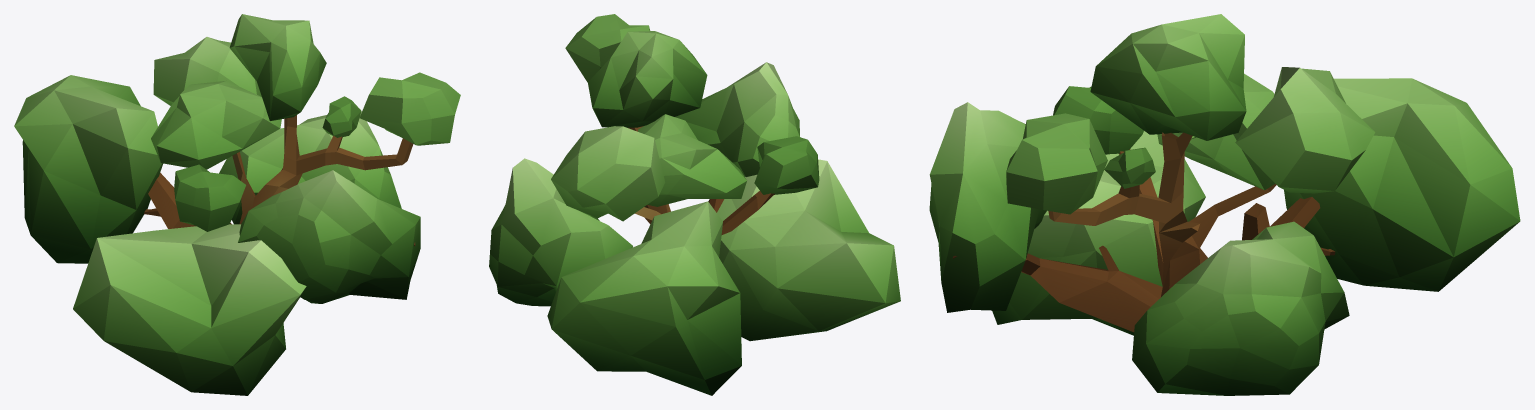
File: bush_1_export_2.fbx
3 views of the same model, side by side, from view 1: azimuth 30°, elevation 25°; view 2: azimuth 150°, elevation 25°; view 3: azimuth 270°, elevation 25° (orthographic). The views are drawn at different scales.
Parts seen in each view (by area): view 1: pPlatonic19, pPlatonic18, pPlatonic16, pPlatonic21, pPlatonic20, pPlatonic14, tree_trunk1, leaves_mal4, leaves_mal6, leaves_mal5, leaves_mal7; view 2: pPlatonic18, pPlatonic19, pPlatonic14, pPlatonic20, leaves_mal6, pPlatonic16, pPlatonic21, leaves_mal5, leaves_mal4, tree_trunk1; view 3: pPlatonic18, pPlatonic14, pPlatonic16, tree_trunk1, pPlatonic20, leaves_mal6, pPlatonic19, leaves_mal4, pPlatonic21, leaves_mal5, leaves_mal7.
Part boxes in pixels (x1,y1,x2,y2): pPlatonic19: (73,224,306,395); pPlatonic18: (14,75,163,263); pPlatonic16: (238,170,420,303); pPlatonic21: (151,80,281,169); pPlatonic20: (229,14,326,120); pPlatonic14: (219,109,401,224); tree_trunk1: (144,115,415,245); leaves_mal4: (359,72,460,145); leaves_mal6: (153,37,261,105); leaves_mal5: (174,164,245,231); leaves_mal7: (322,96,361,137); pPlatonic18: (547,201,741,395); pPlatonic19: (717,159,900,341); pPlatonic14: (489,158,632,306); pPlatonic20: (587,31,707,127); leaves_mal6: (551,126,665,221); pPlatonic16: (675,62,799,176); pPlatonic21: (638,114,746,206); leaves_mal5: (754,136,819,194); leaves_mal4: (565,14,650,82); tree_trunk1: (628,126,774,234); pPlatonic18: (1284,78,1520,291); pPlatonic14: (1132,221,1349,395); pPlatonic16: (929,102,1046,312); tree_trunk1: (953,132,1335,332); pPlatonic20: (1090,14,1246,140); leaves_mal6: (1235,67,1375,193); pPlatonic19: (992,131,1205,335); leaves_mal4: (1006,113,1107,214); pPlatonic21: (1157,73,1275,190); leaves_mal5: (1053,86,1143,154); leaves_mal7: (1104,147,1155,188).
Size of the model in its own units: 3.98 by 3.22 by 4.74.
